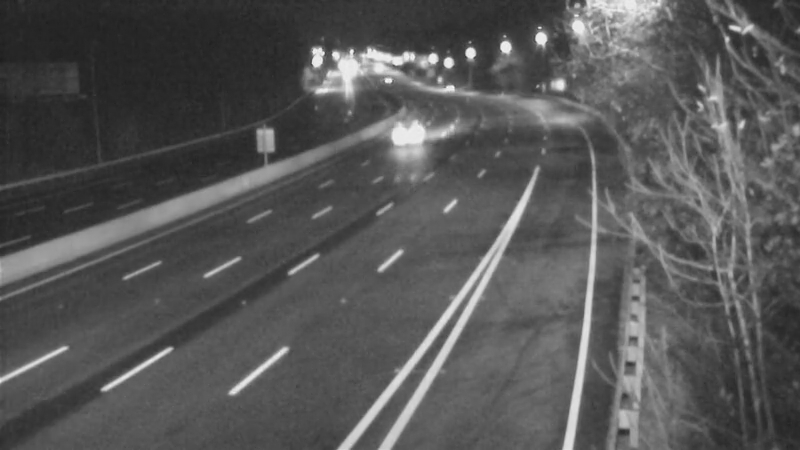vehicle: (427, 63, 477, 113), (381, 108, 431, 158)
